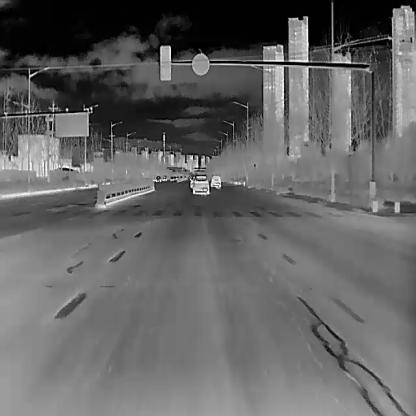car: (192, 174, 209, 194), (210, 173, 221, 188), (155, 174, 161, 181), (162, 174, 166, 180), (169, 176, 174, 180)
